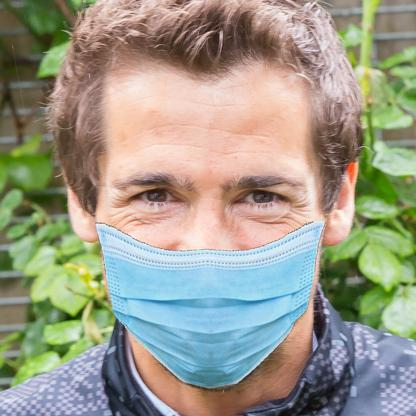mask: (90, 220, 329, 392)
